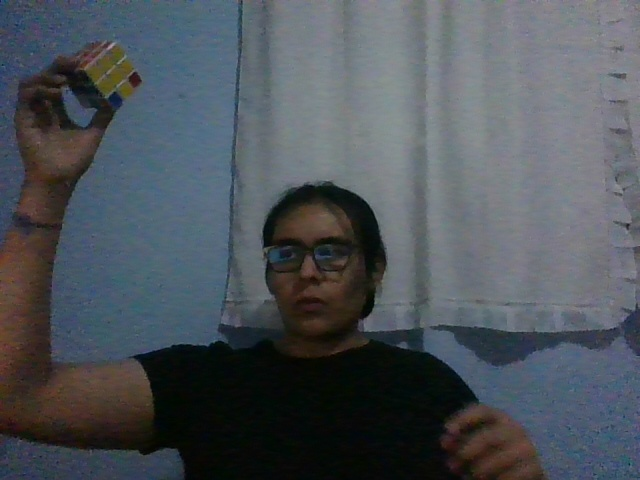rubik: (59, 40, 142, 112)
